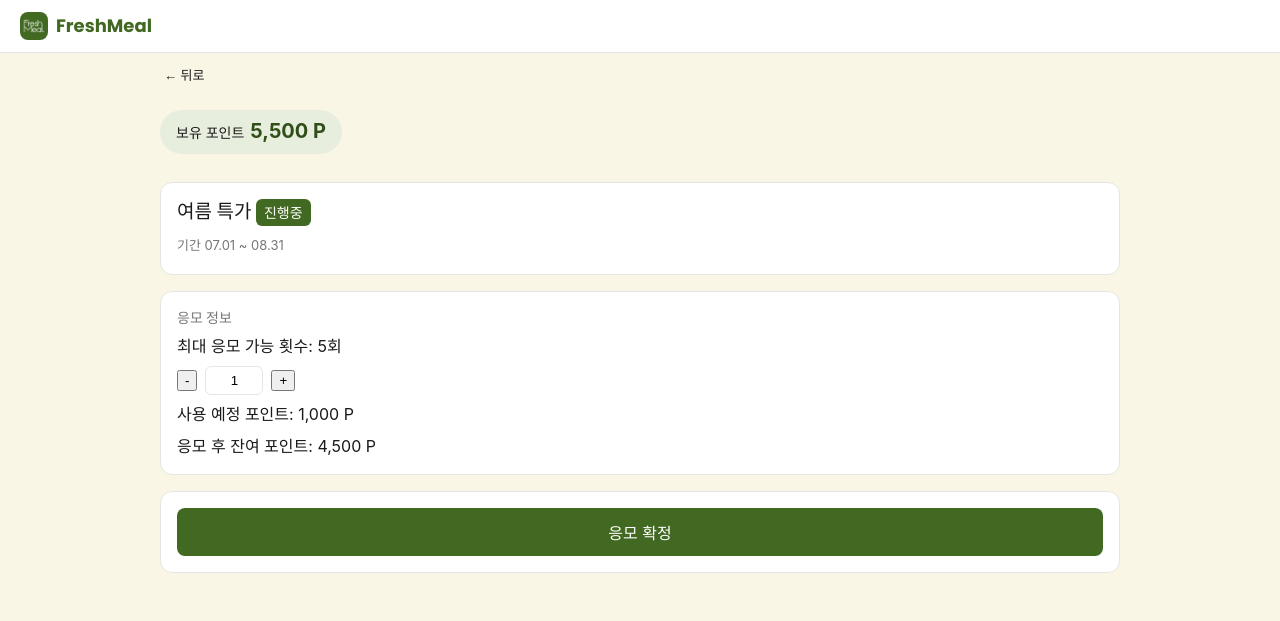
EventDetailPage › 포인트 부족 에러 응답 메시지가 그대로 표시된다
Click the button "응모 확정".
click(640, 532)  # box [177,508,1103,556]
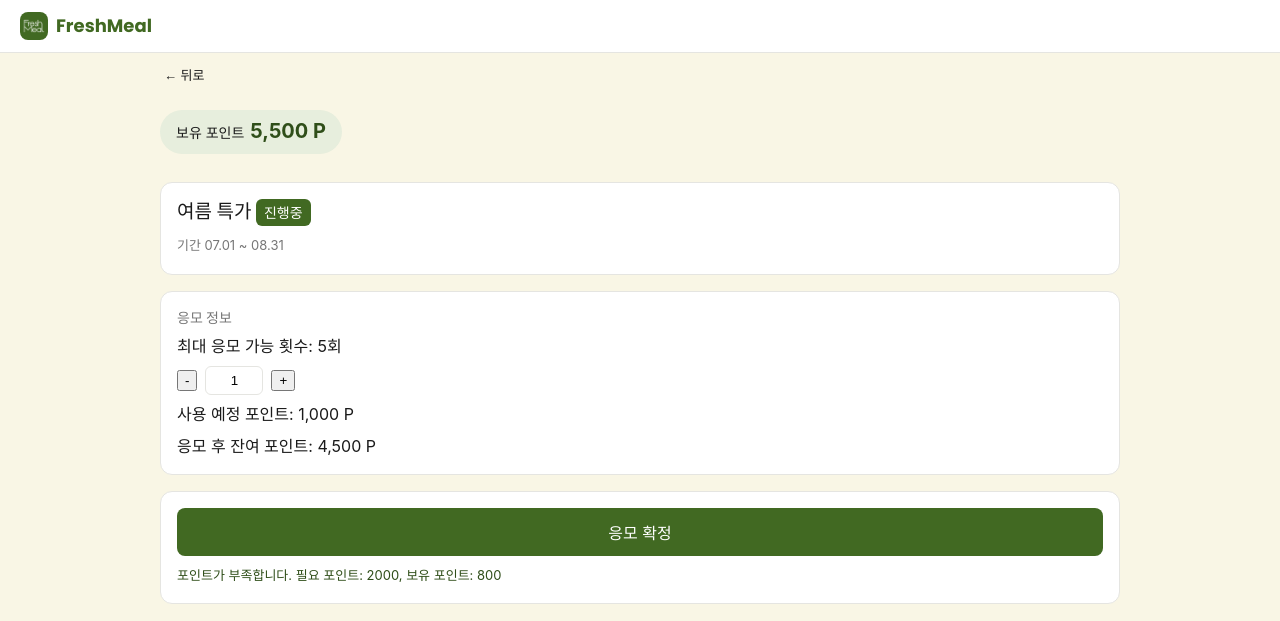
Expected: the text "포인트가 부족합니다. 필요 포인트: 2000, 보유 포인트: 800" is shown, [177,567,502,583]
